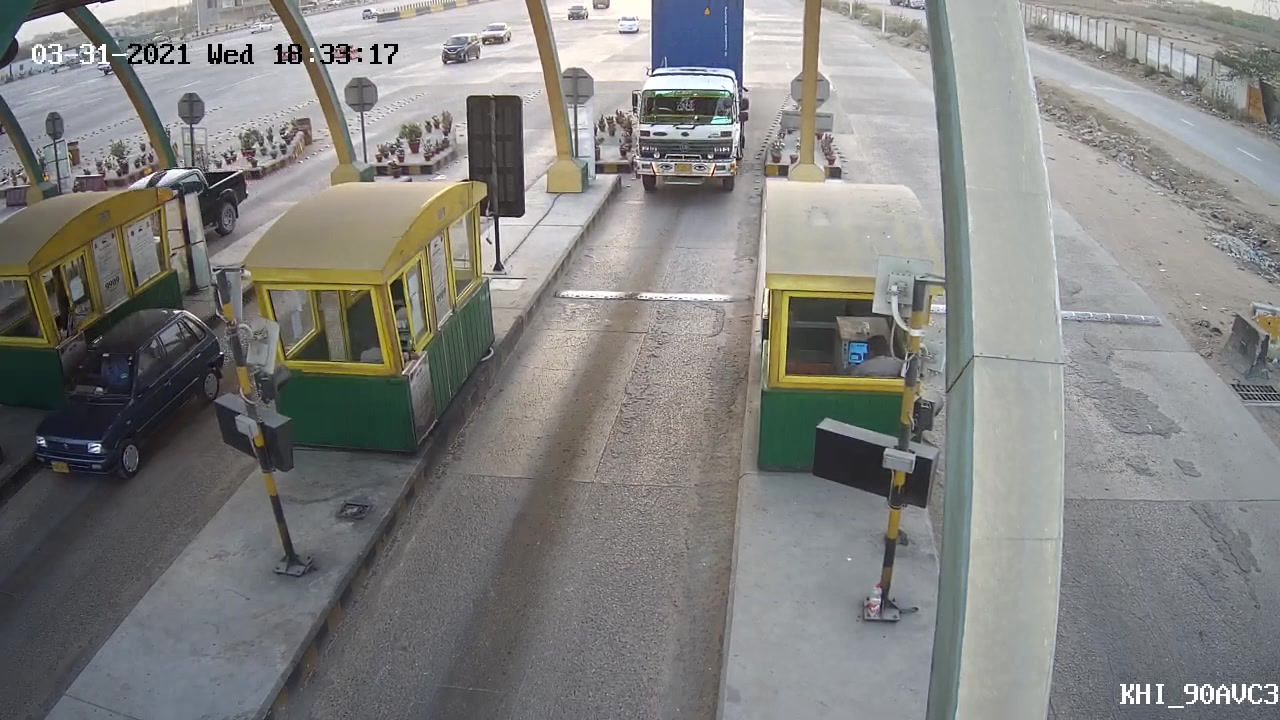F6: (612, 2, 761, 192)
